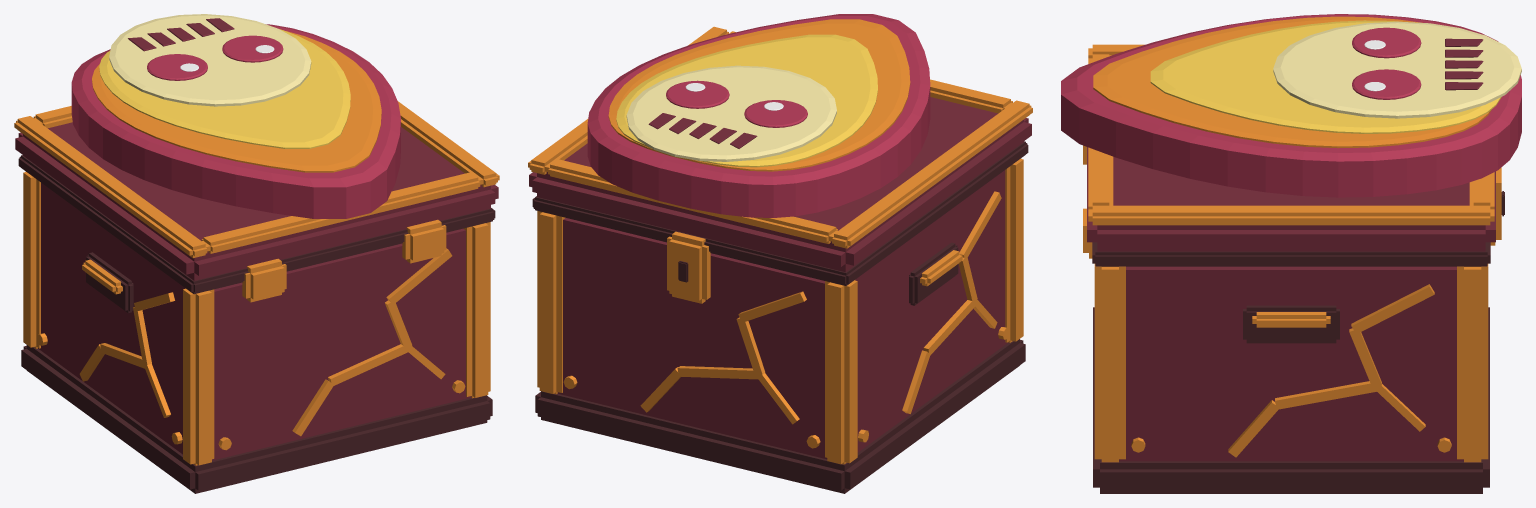
Rendered from crate_monstro_lava.fbx.
3 renders of one model, left to right at view 1: azimuth 30°, elevation 25°; view 2: azimuth 150°, elevation 25°; view 3: azimuth 270°, elevation 25°, orthographic. The views are drawn at different scales.
Parts seen in each view (by area): view 1: crate_monstro_lava_caixa, crate_monstro_lava_caixa_neon; view 2: crate_monstro_lava_caixa, crate_monstro_lava_caixa_neon; view 3: crate_monstro_lava_caixa, crate_monstro_lava_caixa_neon.
Boxes of the visible parts, x1=… form: crate_monstro_lava_caixa: x1=14, y1=14, x2=499, y2=493; crate_monstro_lava_caixa_neon: x1=79, y1=248, x2=452, y2=436; crate_monstro_lava_caixa: x1=528, y1=14, x2=1032, y2=493; crate_monstro_lava_caixa_neon: x1=640, y1=191, x2=1001, y2=424; crate_monstro_lava_caixa: x1=1061, y1=14, x2=1521, y2=493; crate_monstro_lava_caixa_neon: x1=1228, y1=284, x2=1434, y2=457.
Size of the model in its own units: 2.68 by 2.49 by 2.95.
1 material, 1 textured.
